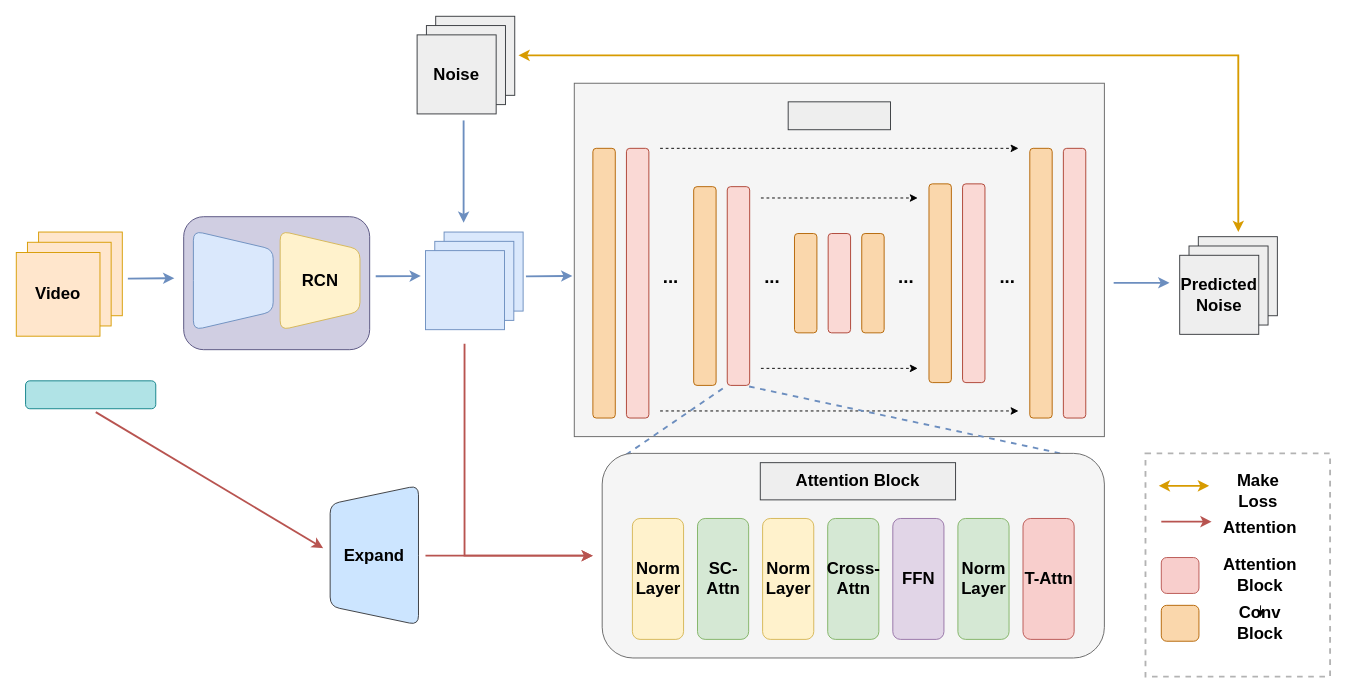
Image size: 1348x694. Some labels were removed from this diagram. Here are the shapes that lost their labels. From the top down, the centre of each, then its label:
pixel 838 115: Unet
pixel 232 280: VAE
pixel 465 290: Noised Latents
pixel 90 394: Text
